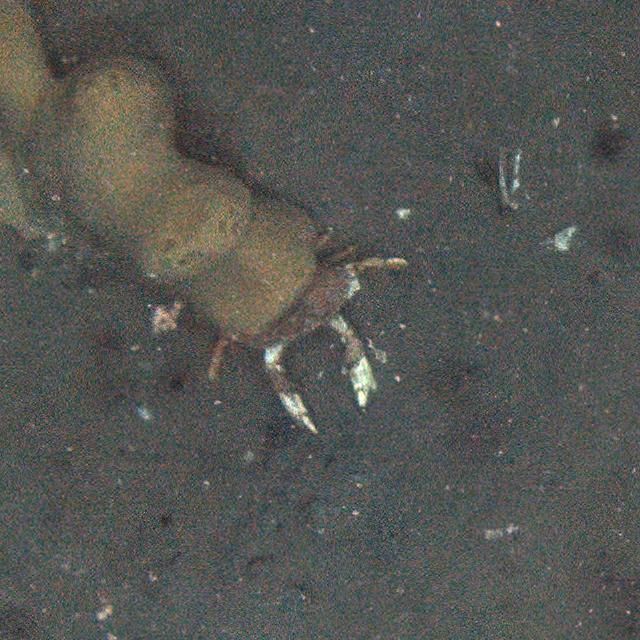crab: (263, 232, 412, 438)
